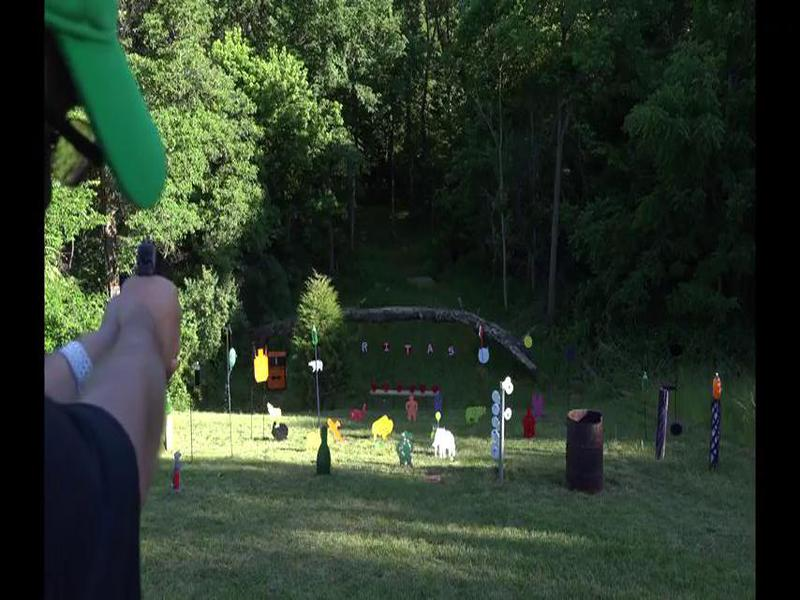Pistola: (124, 228, 203, 311)
